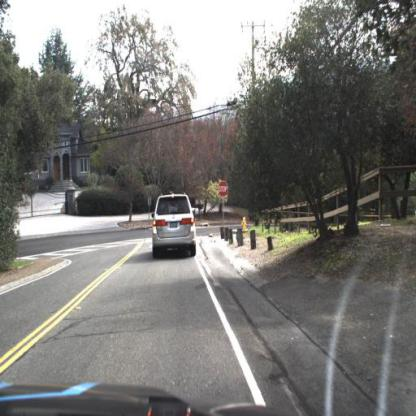car: (151, 190, 196, 263)
